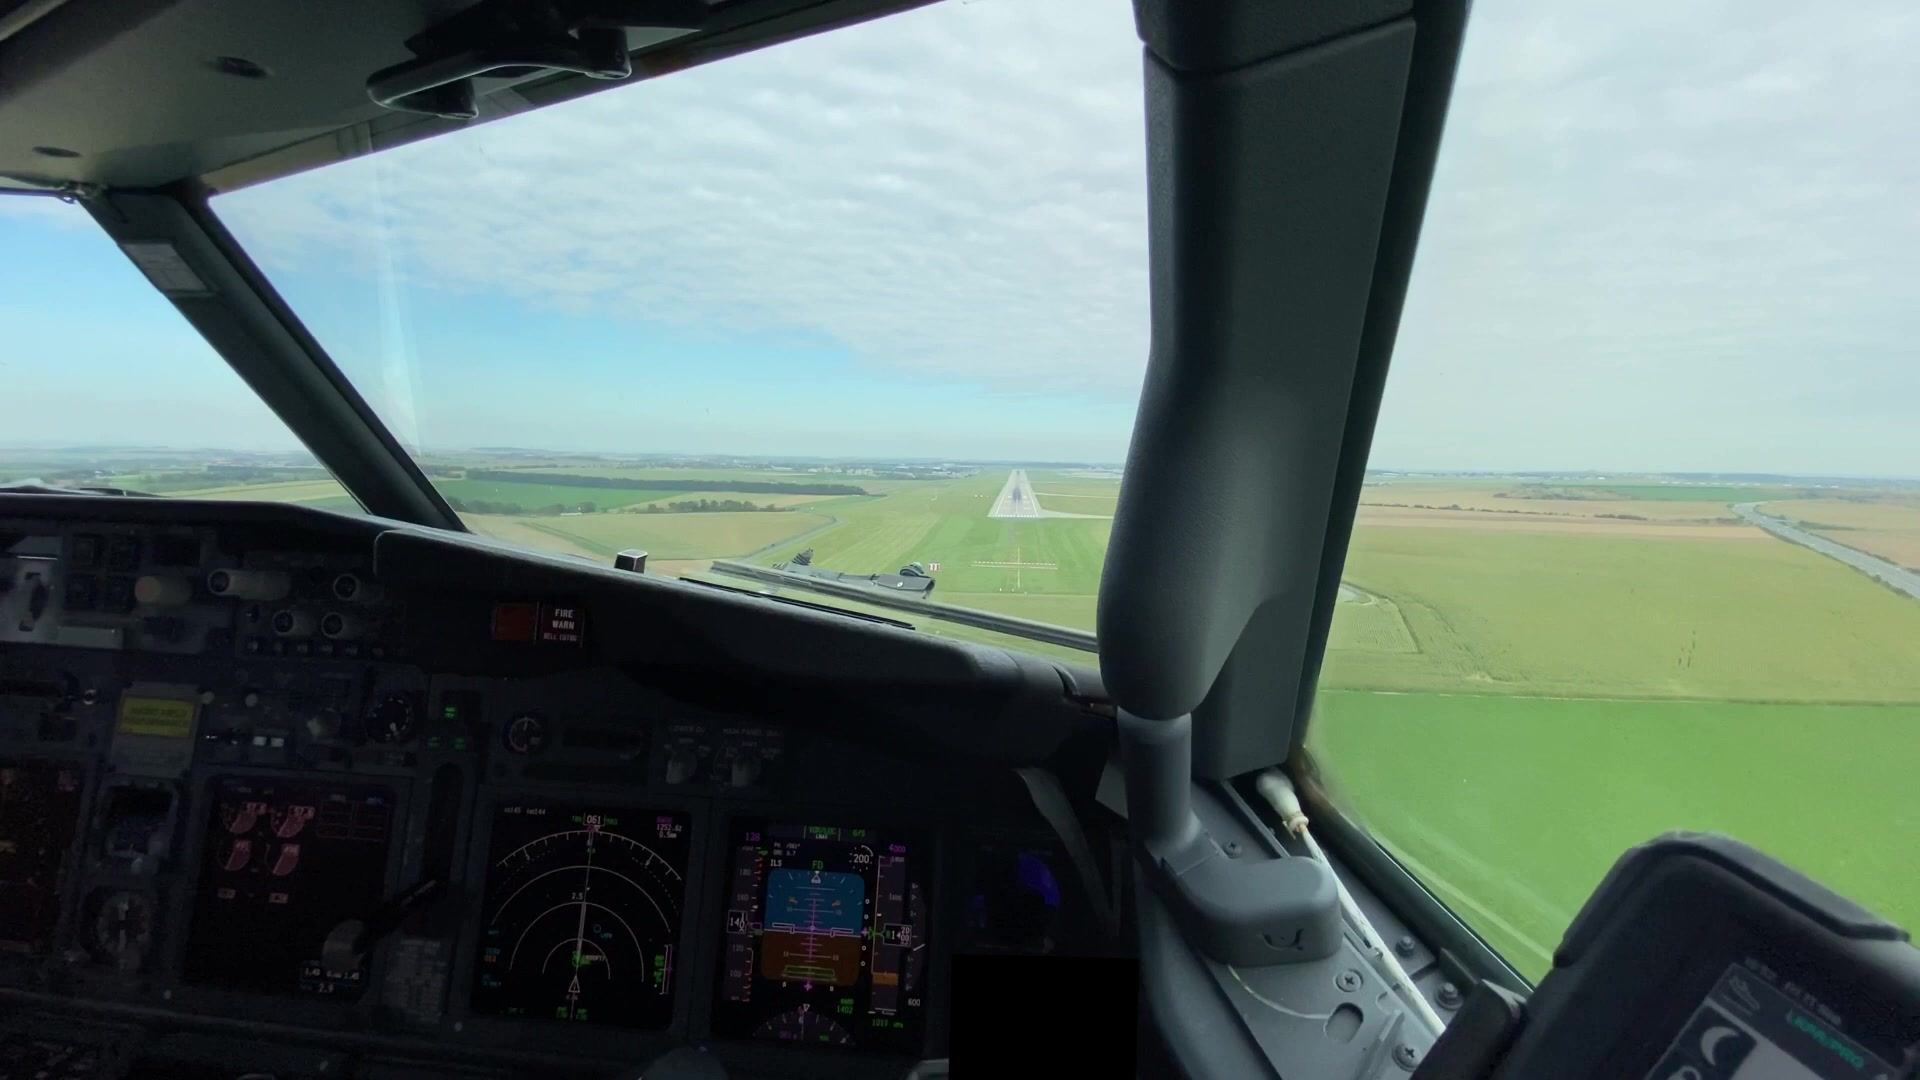runway: (986, 467, 1048, 520)
